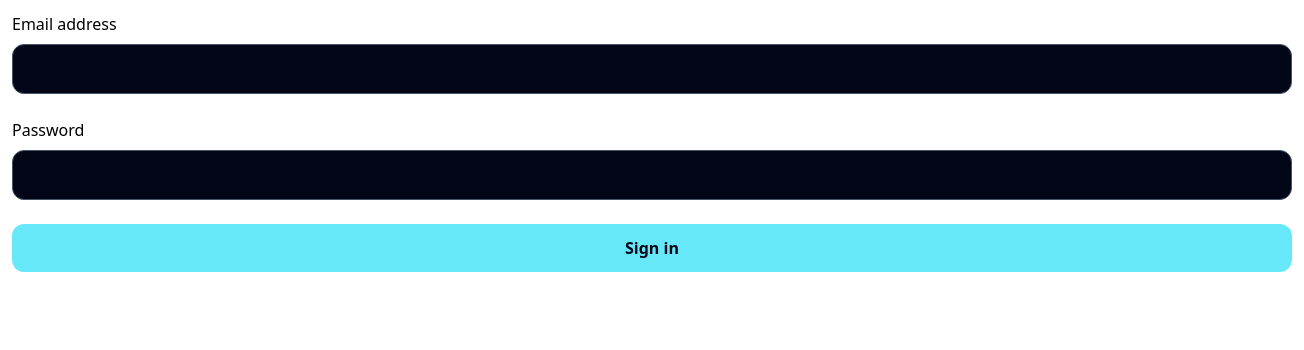
Test: login form (mocked Supabase) › labels fields and reports accessible validation without a request
Click the button "Sign in" at (652, 248), box [12,224,1292,272]
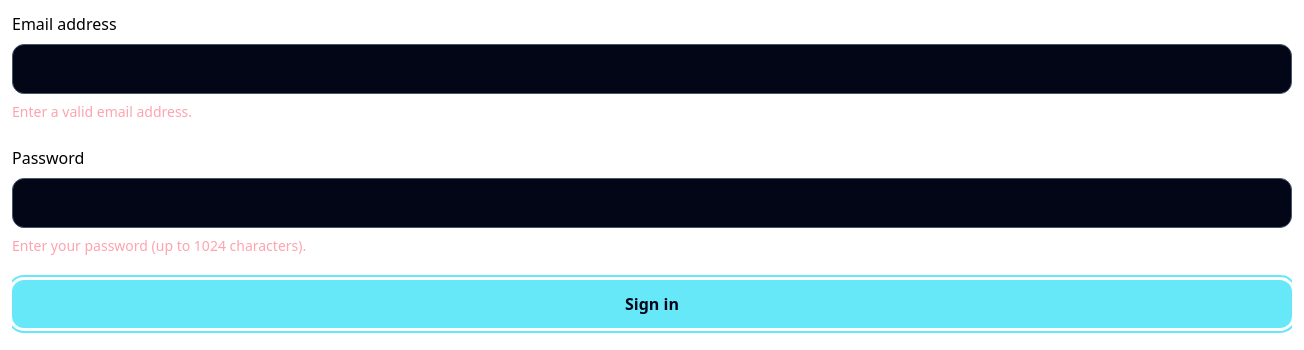
Result: the number of messages is 2 at [12,102,192,121]; [12,236,306,255]
